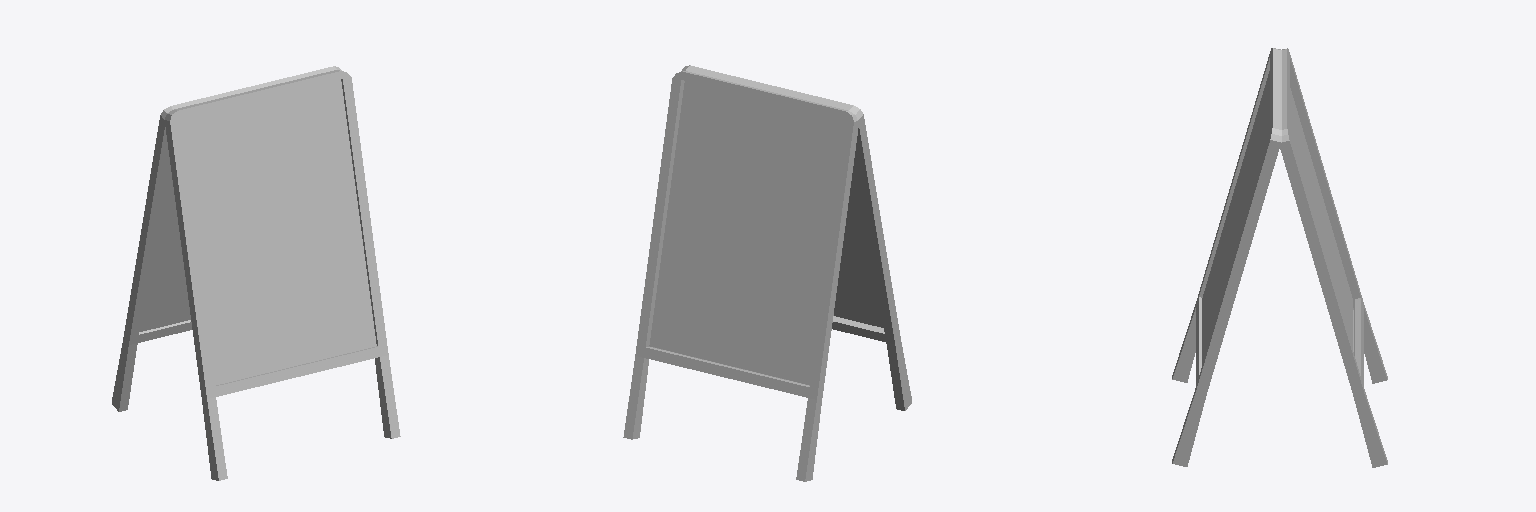
Rendered from advertisement.obj.
3 views of the same model, side by side, from view 1: azimuth 30°, elevation 25°; view 2: azimuth 150°, elevation 25°; view 3: azimuth 270°, elevation 25° (orthographic).
Parts seen in each view (by area): view 1: polySurface1; view 2: polySurface1; view 3: polySurface1.
Part boxes in pixels (x1,y1,x2,y2): polySurface1: (112, 66, 400, 480); polySurface1: (623, 65, 911, 481); polySurface1: (1172, 48, 1387, 467).
Size of the model in its own units: 5.48 by 9.69 by 5.62.